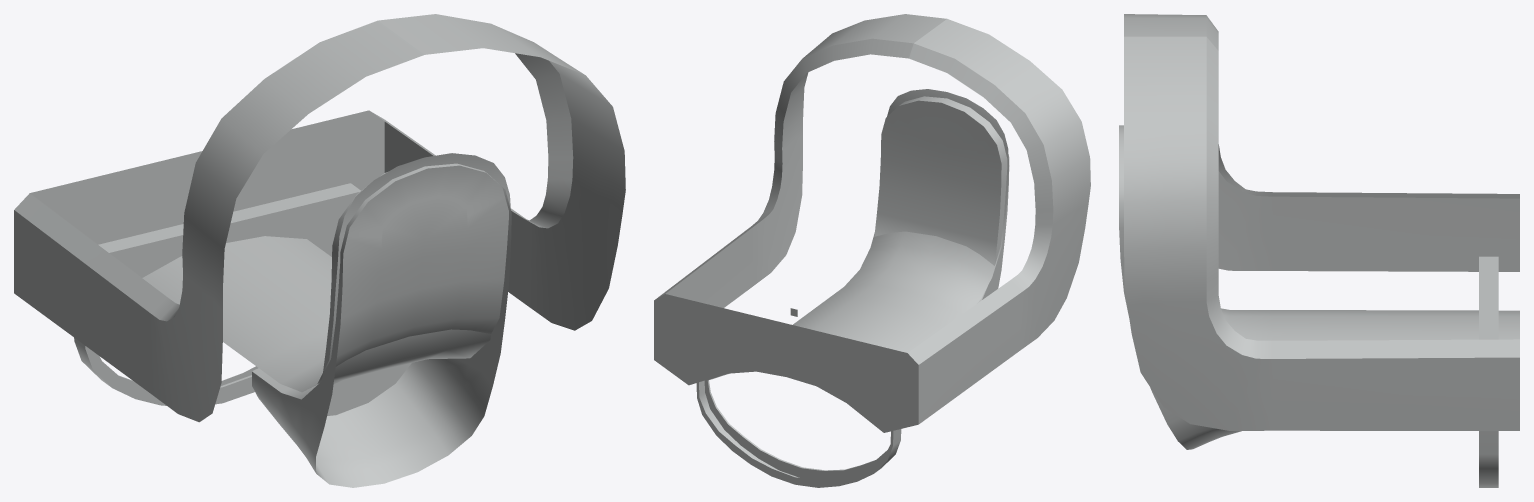
File: CoffeeMachine_10_CoffeeMachine_10_0_GeomSubset_0.obj
The picture shows the model from 3 angles, left to right: view 1: azimuth 30°, elevation 25°; view 2: azimuth 150°, elevation 25°; view 3: azimuth 270°, elevation 25°; orthographic projection. The views are drawn at different scales.
Parts seen in each view (by area): view 1: CoffeeMachine_10_CoffeeMachine_10_0_GeomSubset_0; view 2: CoffeeMachine_10_CoffeeMachine_10_0_GeomSubset_0; view 3: CoffeeMachine_10_CoffeeMachine_10_0_GeomSubset_0.
Boxes of the visible parts, x1=… form: CoffeeMachine_10_CoffeeMachine_10_0_GeomSubset_0: x1=14, y1=14, x2=625, y2=487; CoffeeMachine_10_CoffeeMachine_10_0_GeomSubset_0: x1=654, y1=14, x2=1090, y2=487; CoffeeMachine_10_CoffeeMachine_10_0_GeomSubset_0: x1=1119, y1=14, x2=1519, y2=487.
Size of the model in its own units: 0.4133 by 0.4865 by 0.4053.
